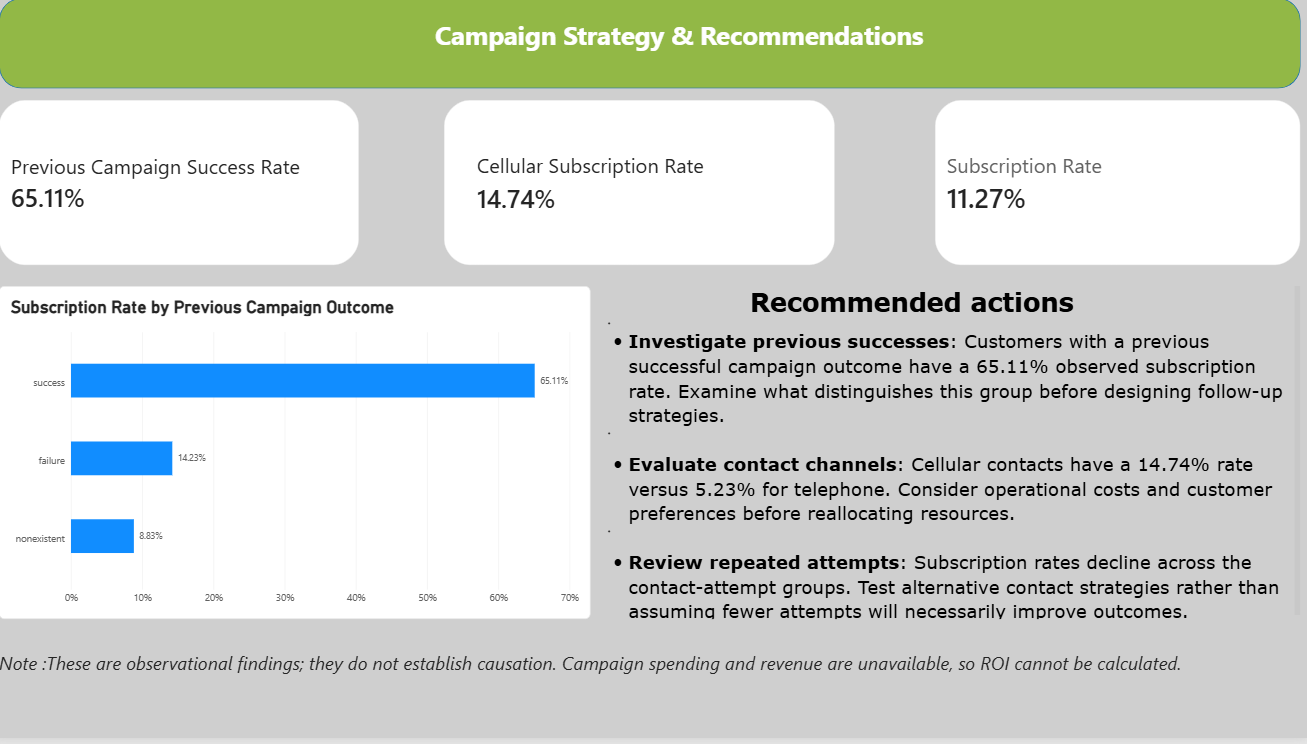

This screenshot's page, from the dashboard's own definition file:
{"tool":"powerbi","page":{"name":"Campaign Strategy","canvas":[1920,1080],"ordinal":2},"visuals":[{"type":"shape","box":[9.7,0,1899.1,132.1],"z":0},{"type":"textbox","box":[645.9,29,890.7,88.6],"z":1000},{"type":"clusteredBarChart","title":"Subscription Rate by Previous Campaign Outcome","fields":{"Category":["bank_marketing.poutcome"],"Y":["bank_marketing.Subscription Rate"]},"box":[9.7,420.4,863.4,486.4],"z":2000},{"type":"cardVisual","fields":{"Data":["bank_marketing.Previous Campaign Success Rate"]},"box":[9.7,148.2,525.1,241.6],"z":3000},{"type":"cardVisual","fields":{"Data":["bank_marketing.Cellular Subscription Rate"]},"box":[658.8,148.2,570.2,241.6],"z":4000},{"type":"cardVisual","fields":{"Data":["bank_marketing.Subscription Rate"]},"box":[1375.6,148.2,533.2,241.6],"z":5000},{"type":"textbox","box":[889.1,420.4,1019.6,486.4],"z":5001},{"type":"textbox","box":[9.7,951.9,1910.3,67.7],"z":5002}]}

Visuals, with their boxes in screenshot pixels (x1, y1, x2, y2), scaled from the page's 1920x1080 canvas onto the 1307x744 screenshot:
shape: bbox(7, 0, 1299, 91)
textbox: bbox(440, 20, 1046, 81)
"Subscription Rate by Previous Campaign Outcome" clusteredBarChart: bbox(7, 290, 594, 625)
cardVisual - bank_marketing.Previous Campaign Success Rate: bbox(7, 102, 364, 269)
cardVisual - bank_marketing.Cellular Subscription Rate: bbox(448, 102, 837, 269)
cardVisual - bank_marketing.Subscription Rate: bbox(936, 102, 1299, 269)
textbox: bbox(605, 290, 1299, 625)
textbox: bbox(7, 656, 1306, 702)
